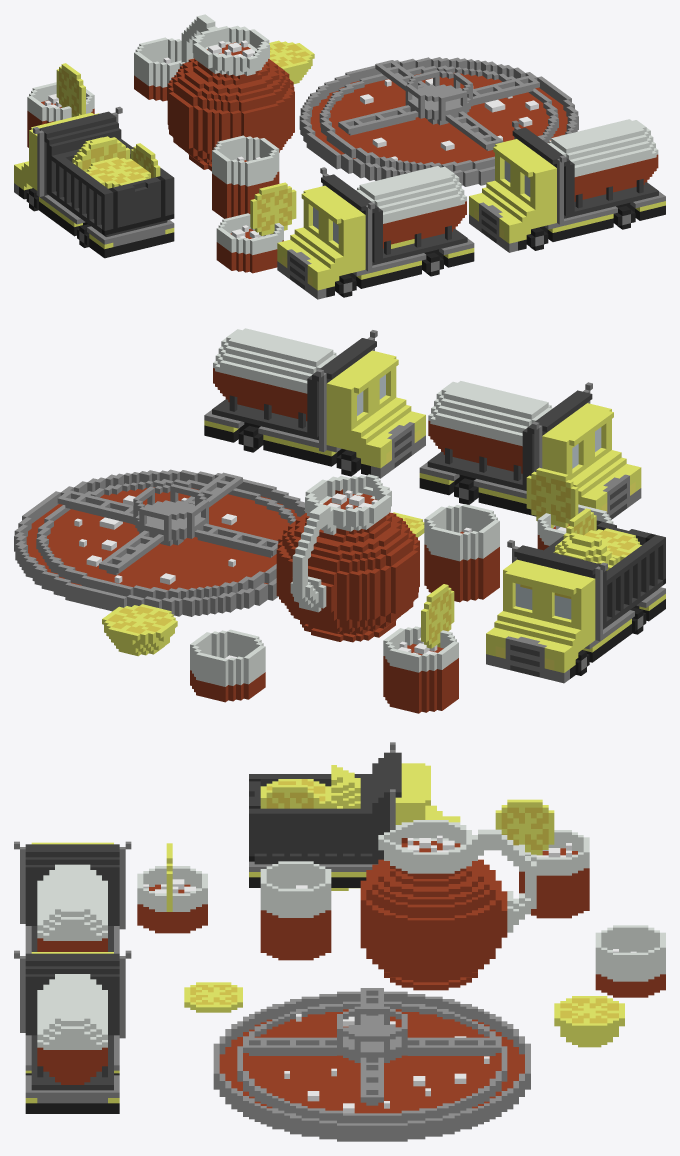
File: iced_tea-1.obj
The picture shows the model from 3 angles, top to bottom: view 1: azimuth 30°, elevation 25°; view 2: azimuth 150°, elevation 25°; view 3: azimuth 270°, elevation 25°; orthographic projection. The views are drawn at different scales.
Visible parts, largest first — view 1: iced_tea-1; view 2: iced_tea-1; view 3: iced_tea-1.
Part boxes in pixels (<box>): iced_tea-1: <box>14,14,665,299</box>; iced_tea-1: <box>14,328,665,713</box>; iced_tea-1: <box>14,742,665,1141</box>.
Size of the model in its own units: 118 by 26 by 111.
1 material, 1 textured.
